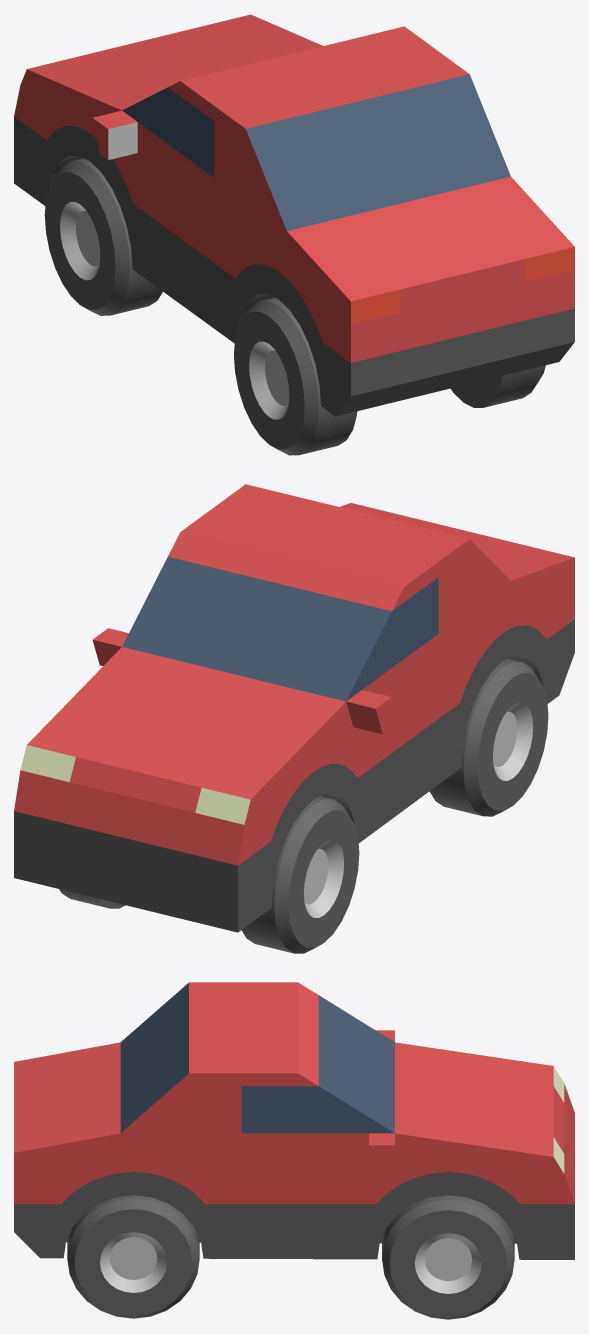
File: carSedan.fbx
3 renders of one model, top to bottom at view 1: azimuth 30°, elevation 25°; view 2: azimuth 150°, elevation 25°; view 3: azimuth 270°, elevation 25°, orthographic. The views are drawn at different scales.
Visible parts, largest first — view 1: body 7, wheelBackLeft 7, wheelFrontLeft 7, wheelBackRight 7; view 2: body 7, wheelBackLeft 7, wheelFrontLeft 7; view 3: body 7, wheelFrontRight 7, wheelBackRight 7.
Boxes of the visible parts, bbox=[...] form: body 7: bbox=[14, 14, 574, 416]; wheelBackLeft 7: bbox=[234, 297, 357, 455]; wheelFrontLeft 7: bbox=[44, 158, 162, 315]; wheelBackRight 7: bbox=[450, 365, 545, 407]; body 7: bbox=[14, 484, 574, 932]; wheelBackLeft 7: bbox=[429, 658, 548, 816]; wheelFrontLeft 7: bbox=[241, 796, 359, 953]; body 7: bbox=[14, 982, 574, 1259]; wheelFrontRight 7: bbox=[382, 1195, 514, 1319]; wheelBackRight 7: bbox=[67, 1195, 199, 1318].
Size of the model in its own units: 5.75 by 5.76 by 11.85.
